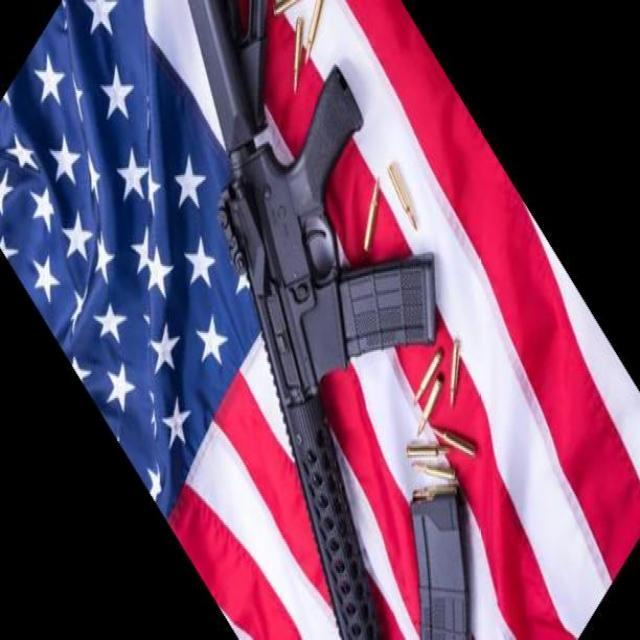weapon: (186, 0, 469, 640)
